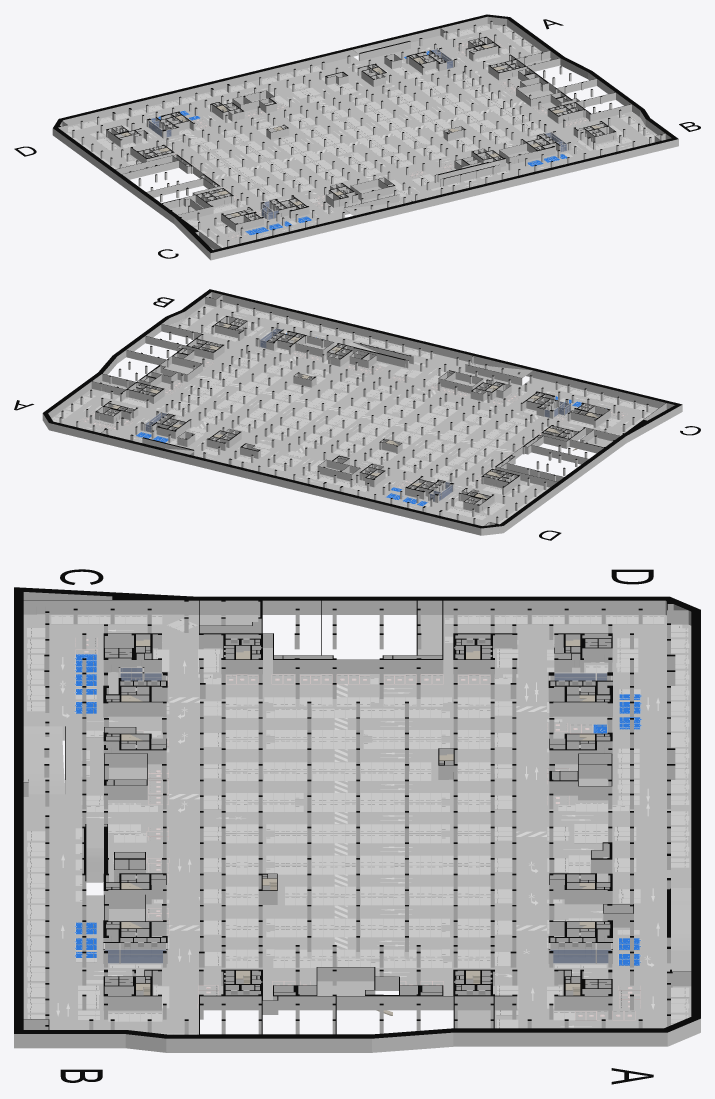
3 views of the same model, one above another, from view 1: azimuth 30°, elevation 25°; view 2: azimuth 150°, elevation 25°; view 3: azimuth 270°, elevation 25° (orthographic). The views are drawn at different scales.
Parts seen in each view (by area): view 1: B6F_A,B,C,D; view 2: B6F_A,B,C,D; view 3: B6F_A,B,C,D.
Part boxes in pixels (box(x1,y1,x2,y2)): B6F_A,B,C,D: box(14, 14, 700, 260); B6F_A,B,C,D: box(14, 289, 700, 540); B6F_A,B,C,D: box(14, 569, 700, 1084).
Size of the model in its own units: 280 by 5.41 by 158.
